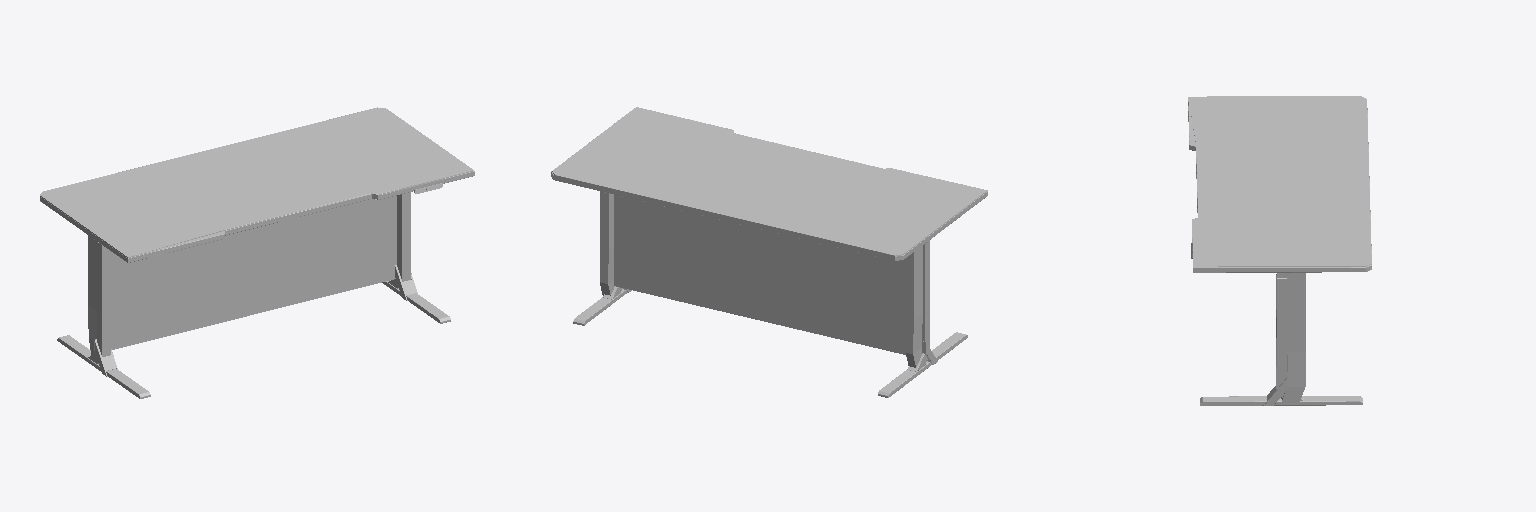
The model's file is Mesa.obj.
3 views of the same model, side by side, from view 1: azimuth 30°, elevation 25°; view 2: azimuth 150°, elevation 25°; view 3: azimuth 270°, elevation 25° (orthographic).
Parts seen in each view (by area): view 1: Object_14, Object_14.001, Object_5, Object_14.002, Object_4; view 2: Object_14, Object_14.001, Object_5; view 3: Object_14, Object_14.002, Object_5.
Part boxes in pixels (x1,y1,x2,y2): Object_14: (40,107,473,354); Object_14.001: (111,196,396,349); Object_5: (57,192,450,398); Object_14.002: (129,111,474,262); Object_4: (94,265,417,376); Object_14: (552,107,987,367); Object_14.001: (614,195,905,354); Object_5: (573,240,967,397); Object_14: (1188,96,1371,266); Object_14.002: (1188,106,1371,402); Object_5: (1200,274,1362,405).
Bounding box in the file's own units: 2.28 × 0.9239 × 1.03.